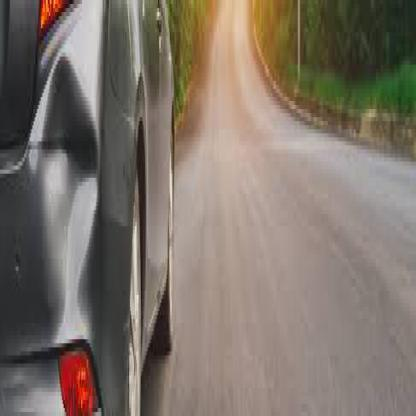dent: (17, 49, 98, 328)
